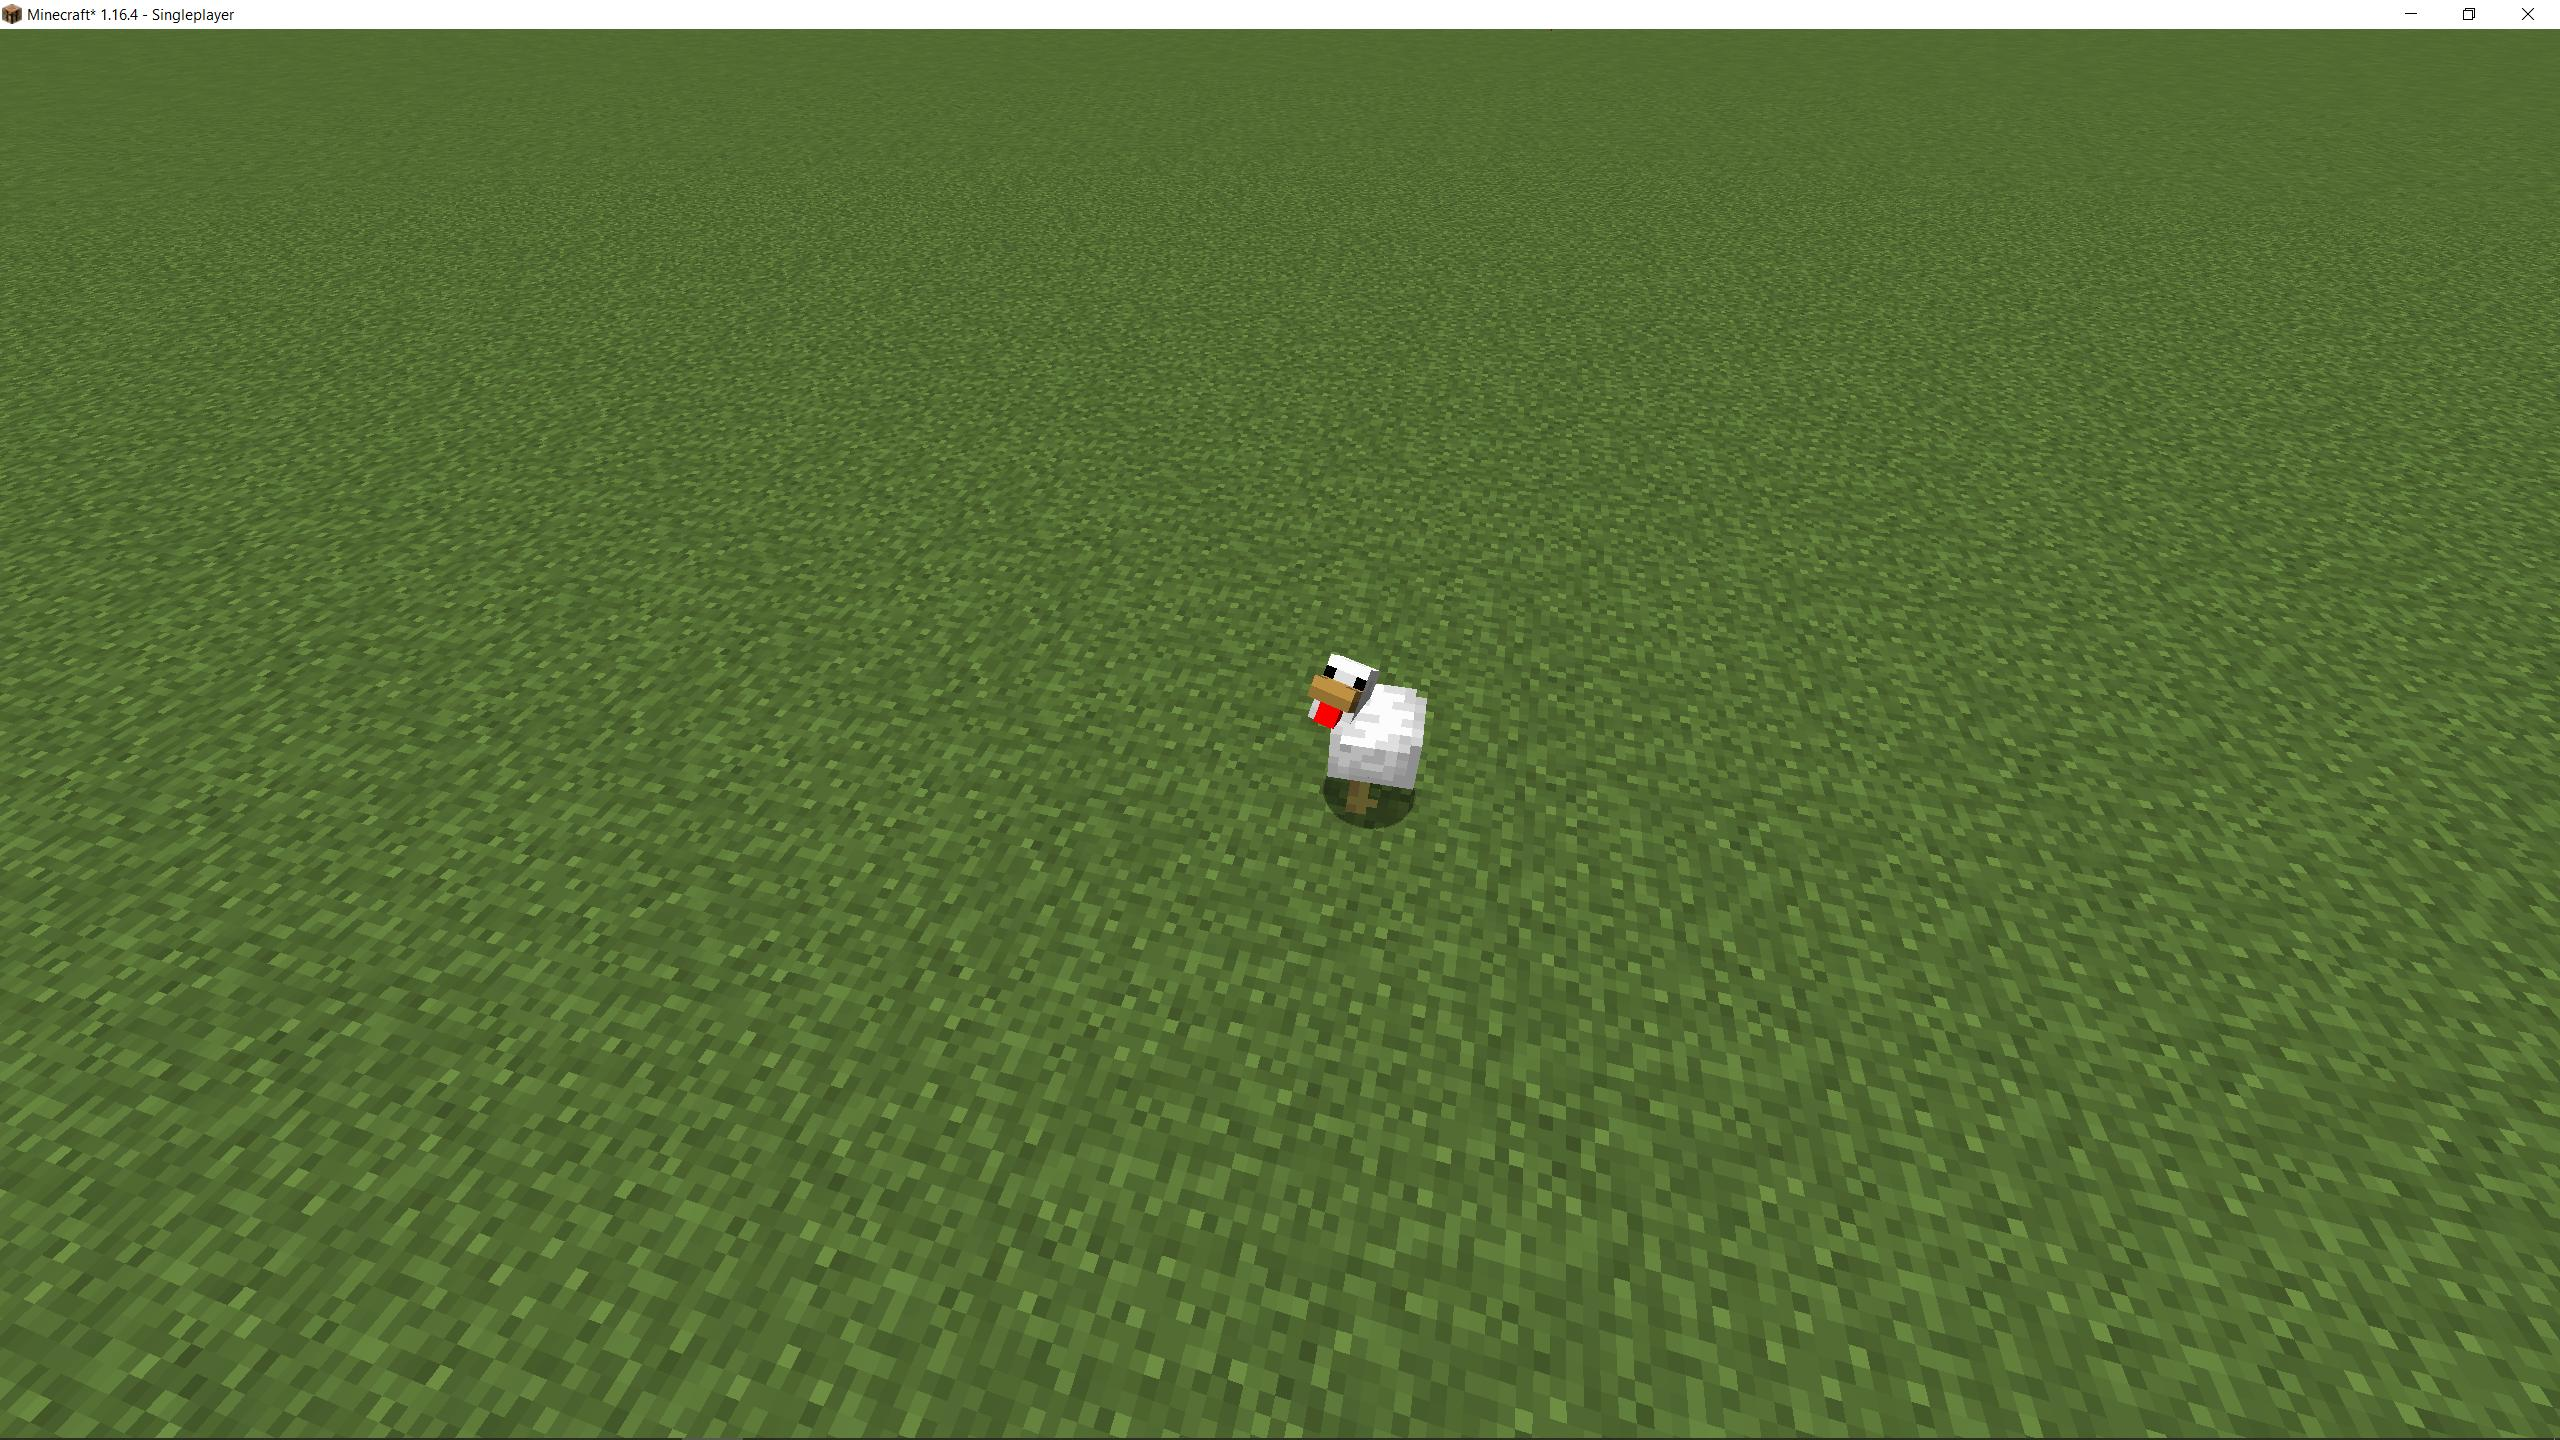chicken: (1296, 649, 1431, 823)
